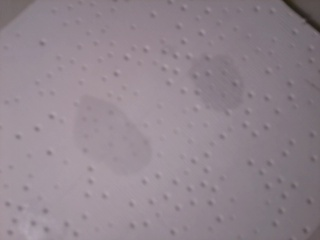Water_detected: (87, 108, 146, 173), (193, 66, 224, 101), (40, 204, 60, 231)
